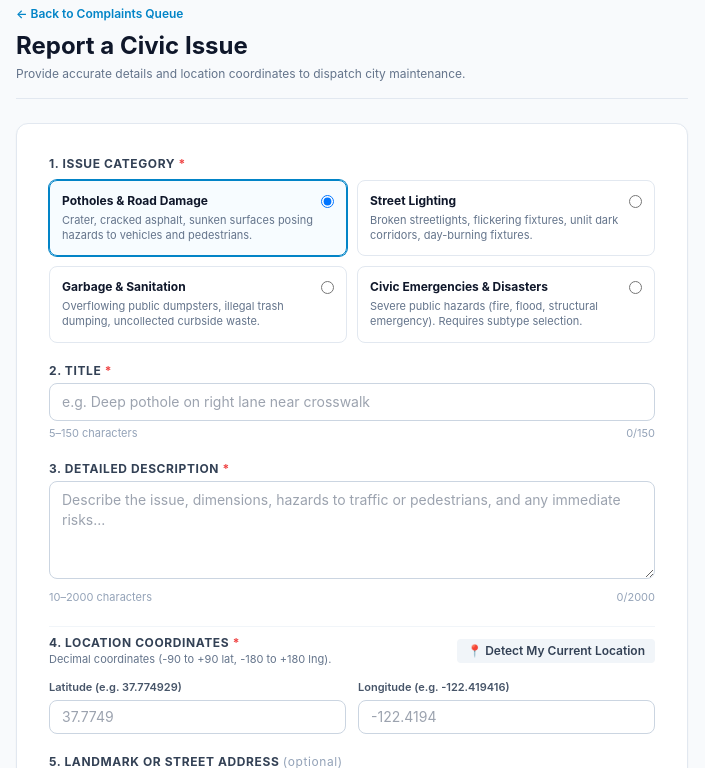
it: Report Complaint Form Tests › shows disaster subtype only when DISASTERS category is selected
This screenshot has width=705, height=768.
Expected: the text "disaster emergency subtype" is not shown
// Select DISASTERS
Step 1. Click the radio button labelled "Civic Emergencies & Disasters" → (636, 287), box [629,281,642,294]
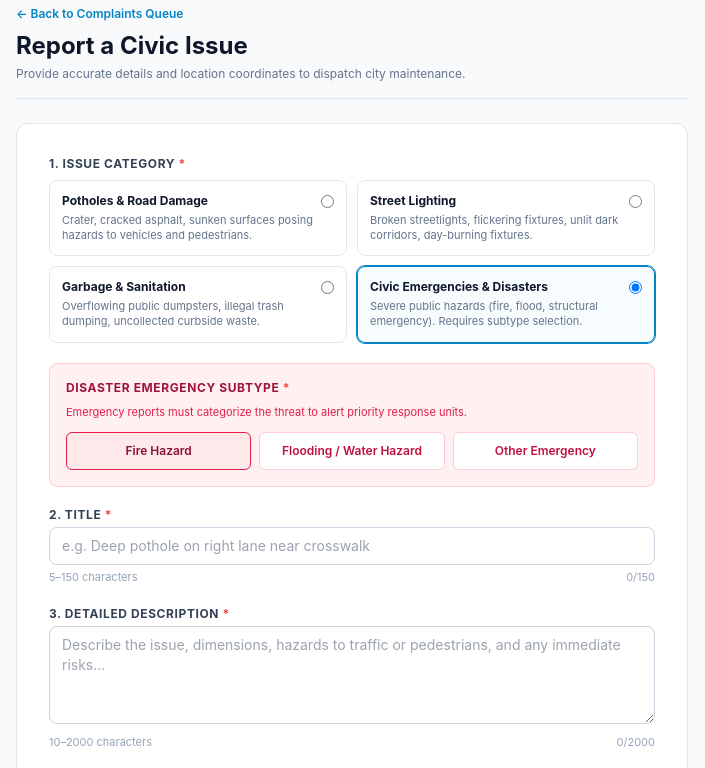
Expected: the text "Disaster Emergency Subtype *" is shown, [66,380,290,394]
Expected: the radio button "Fire Hazard" is shown, [66,432,251,470]
Expected: the radio button "Flooding / Water Hazard" is shown, [259,432,445,470]
// Select GARBAGE - disaster subtype must disappear
Step 2. Click the radio button labelled "Garbage & Sanitation" → (328, 287), box [321,281,334,294]
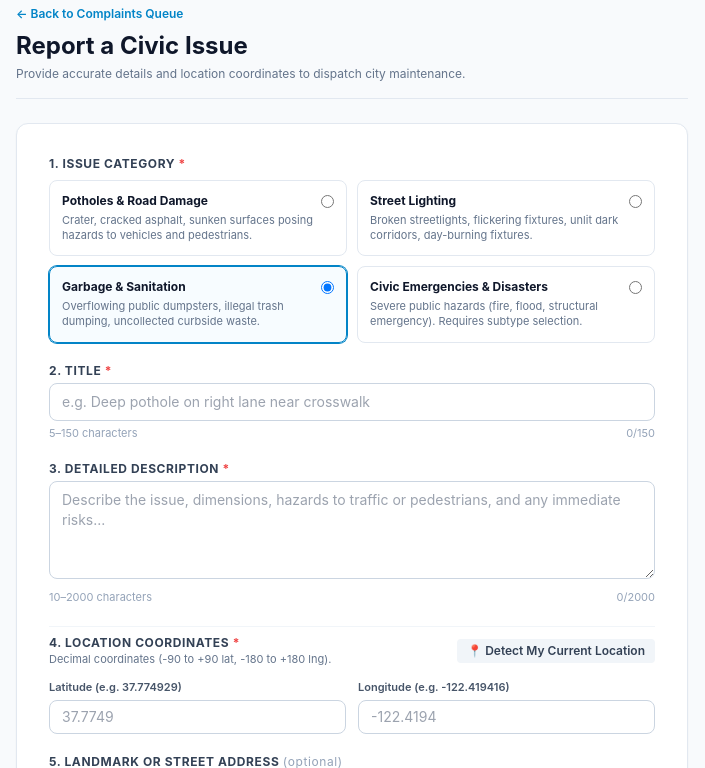
Expected: the text "Disaster Emergency Subtype" is gone
